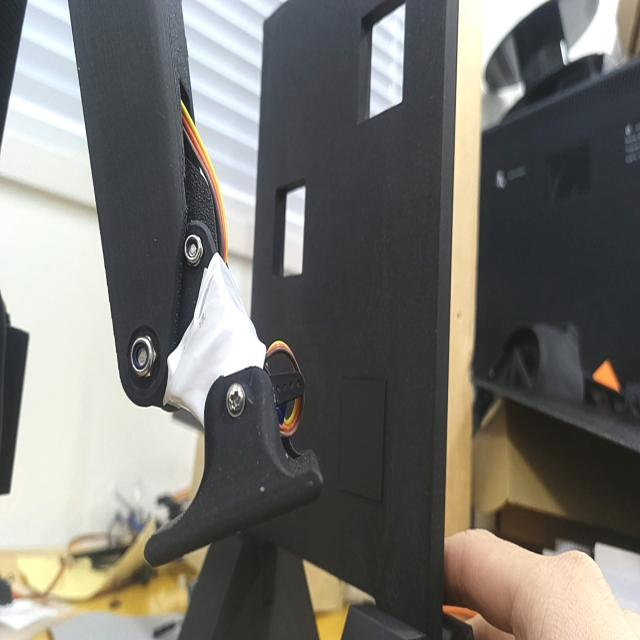Obstacle: (357, 0, 409, 126), (275, 184, 307, 279)
Wall: (251, 0, 458, 639)
